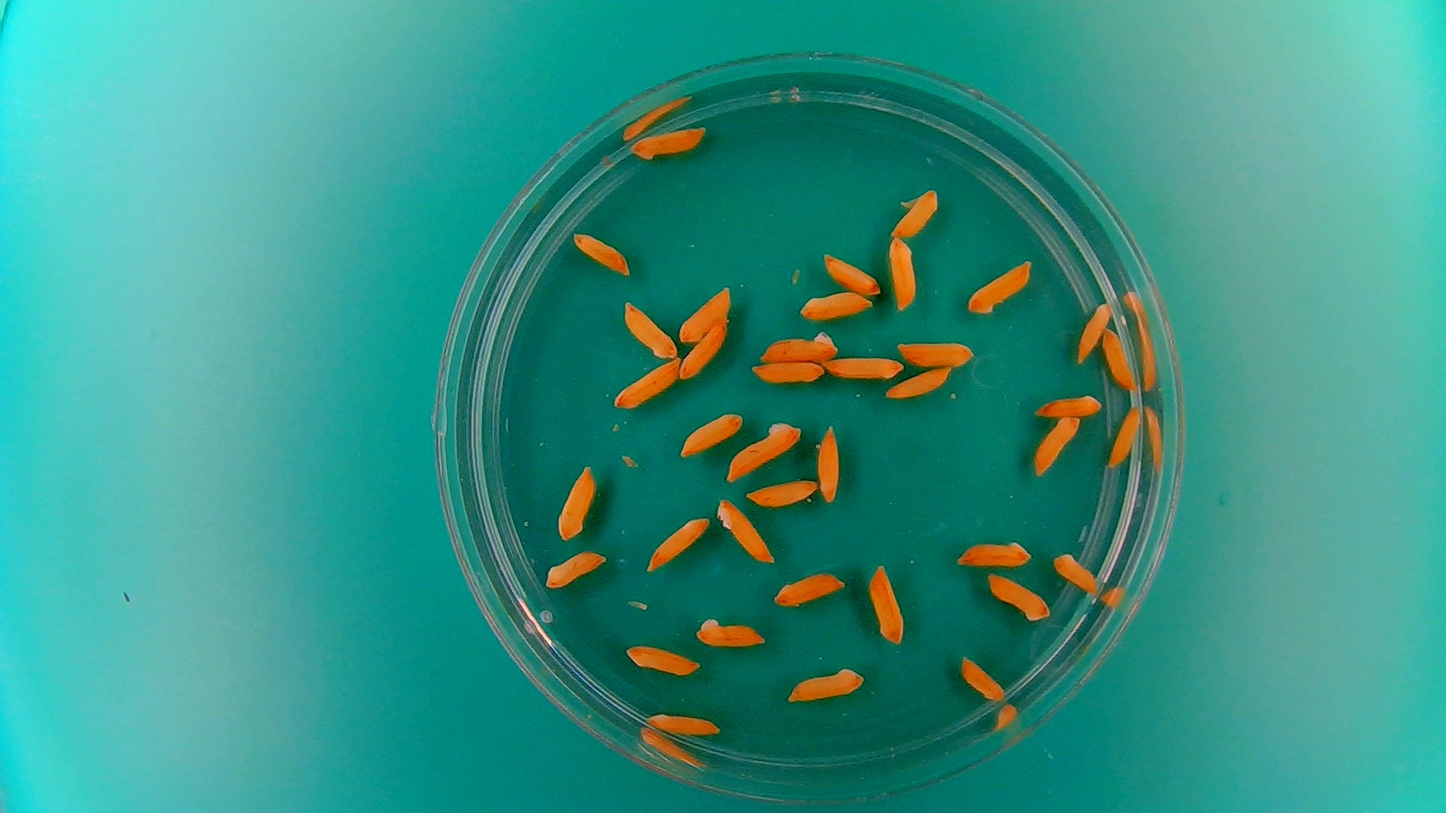no: (722, 418, 804, 482), (878, 180, 947, 249), (713, 496, 775, 566), (964, 257, 1034, 317), (645, 513, 710, 572), (984, 569, 1052, 622), (612, 358, 680, 410), (621, 299, 678, 360), (866, 562, 907, 646), (676, 283, 733, 342), (785, 664, 866, 705), (554, 463, 596, 541), (679, 409, 745, 458), (755, 327, 840, 365), (678, 318, 729, 381), (1032, 413, 1082, 477), (629, 123, 708, 162), (570, 229, 631, 277), (773, 568, 848, 607), (544, 548, 609, 591), (821, 250, 883, 295), (953, 536, 1035, 569), (693, 614, 768, 650), (886, 233, 920, 312), (624, 642, 701, 676), (895, 337, 976, 369), (883, 364, 952, 400), (1100, 324, 1137, 391), (1075, 299, 1113, 364), (814, 419, 843, 504), (797, 289, 874, 321), (1106, 402, 1142, 470), (957, 652, 1006, 701), (744, 477, 819, 509), (824, 353, 905, 382), (1050, 550, 1100, 595), (746, 358, 828, 385), (1032, 390, 1106, 418), (645, 710, 723, 736)
